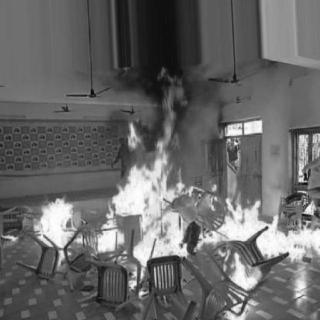Fire: (211, 179, 317, 310), (25, 187, 81, 279)
